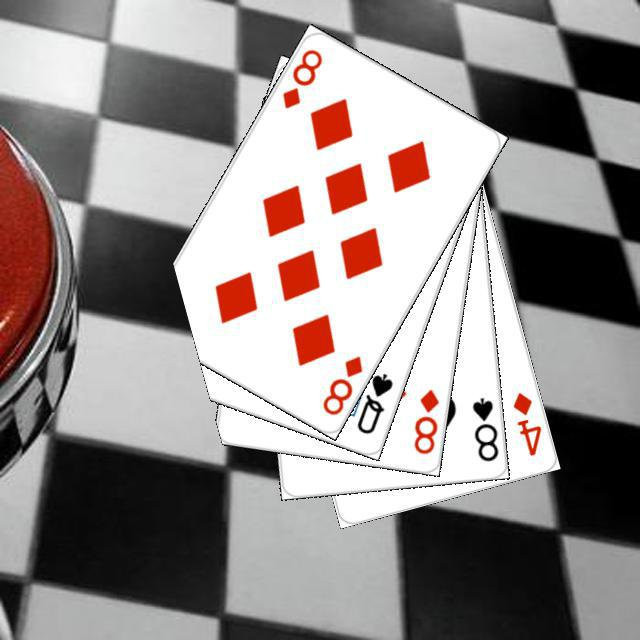4d: (508, 387, 543, 458)
8d: (277, 44, 325, 111), (317, 350, 364, 417), (408, 384, 441, 456)
8s: (467, 393, 499, 463)
Qs: (351, 368, 395, 436)
